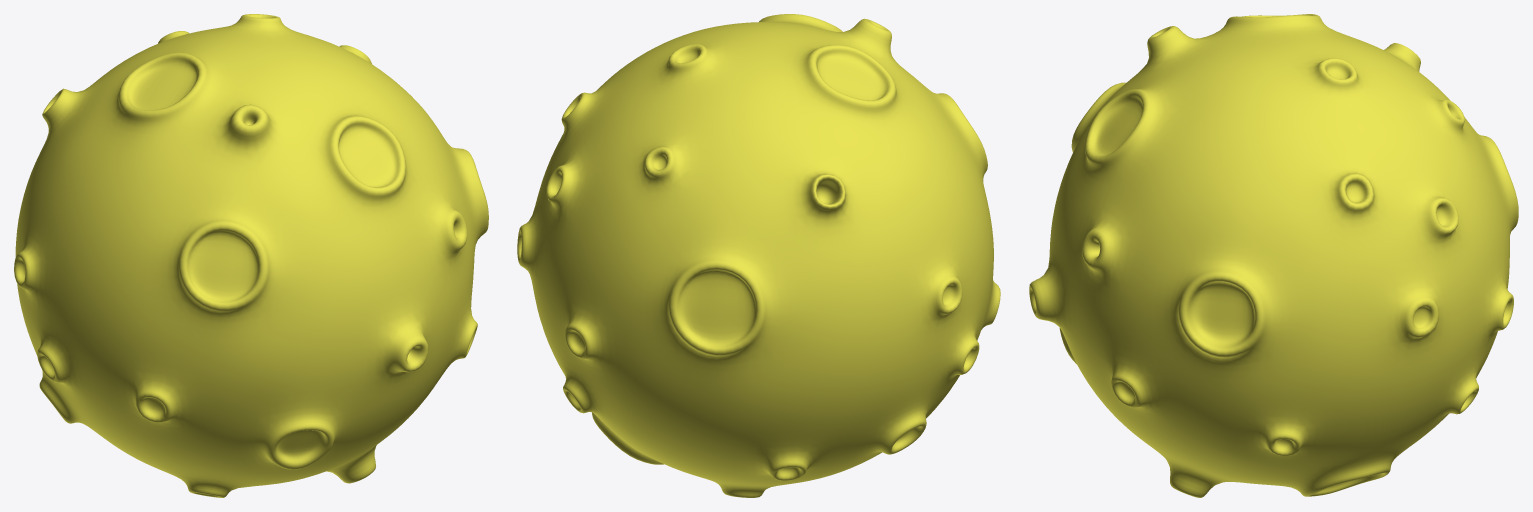
Rendered from Moon.fbx.
3 views of the same model, side by side, from view 1: azimuth 30°, elevation 25°; view 2: azimuth 150°, elevation 25°; view 3: azimuth 270°, elevation 25° (orthographic).
Parts seen in each view (by area): view 1: Moon; view 2: Moon; view 3: Moon.
Part boxes in pixels (x1,y1,x2,y2): Moon: (14,14,488,497); Moon: (517,14,1000,497); Moon: (1029,14,1518,497).
Bounding box in the file's own units: 1.79 × 1.73 × 1.8.
